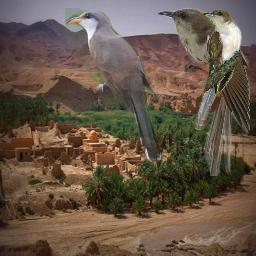Cuckoo: (157, 7, 250, 176), (65, 8, 165, 165), (194, 9, 243, 130)
